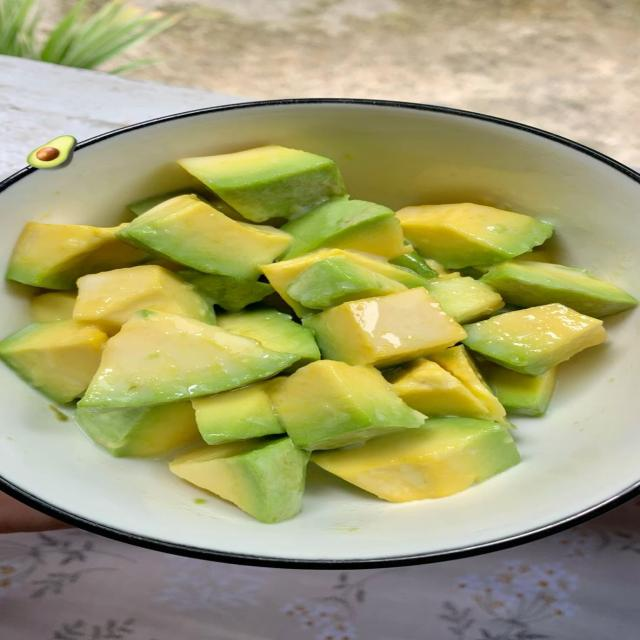avocado: (80, 310, 299, 408), (313, 418, 519, 502), (117, 195, 292, 279), (271, 361, 425, 450), (304, 288, 466, 367), (178, 146, 344, 222), (170, 437, 309, 523), (262, 249, 426, 317), (464, 304, 606, 375), (397, 204, 553, 268), (74, 265, 215, 335), (7, 223, 148, 289), (0, 320, 106, 403), (480, 261, 637, 317), (282, 197, 409, 259), (76, 401, 199, 457), (429, 345, 508, 425), (287, 257, 406, 309), (192, 378, 284, 444), (218, 308, 319, 368), (388, 359, 487, 418), (481, 362, 556, 416), (178, 271, 273, 312), (426, 276, 504, 323), (127, 188, 206, 216), (27, 135, 77, 168), (30, 292, 76, 322), (390, 250, 438, 278), (513, 246, 556, 264), (514, 246, 556, 263)
